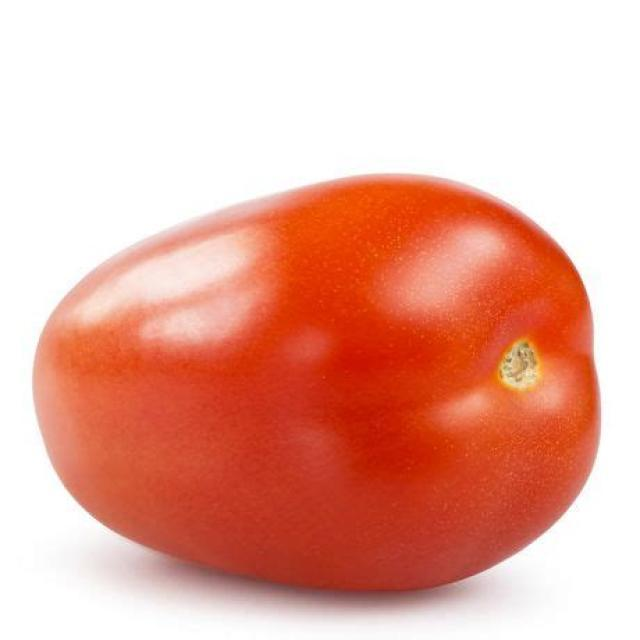Tomato: (30, 175, 604, 597)
